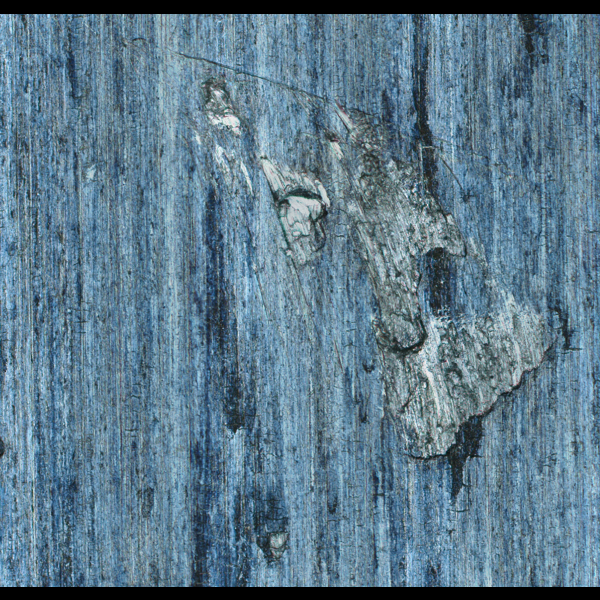d: (185, 74, 577, 500), (249, 502, 292, 566)
